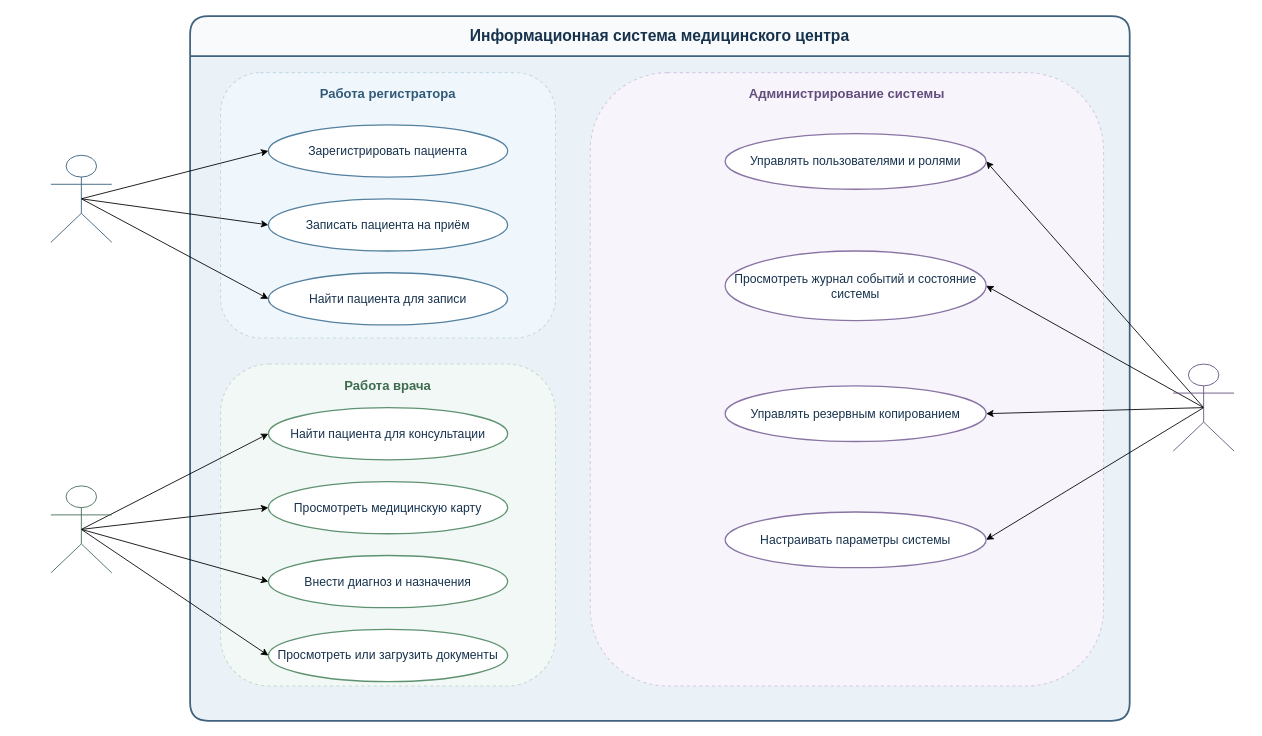
Image size: 1262x736. Some labels were removed from this diagram. The centre of each missing label's shape, as x and y in pixels:
Администратор: the point at 1203,407
Врач: the point at 81,529
Работник регистратуры: the point at 81,198
